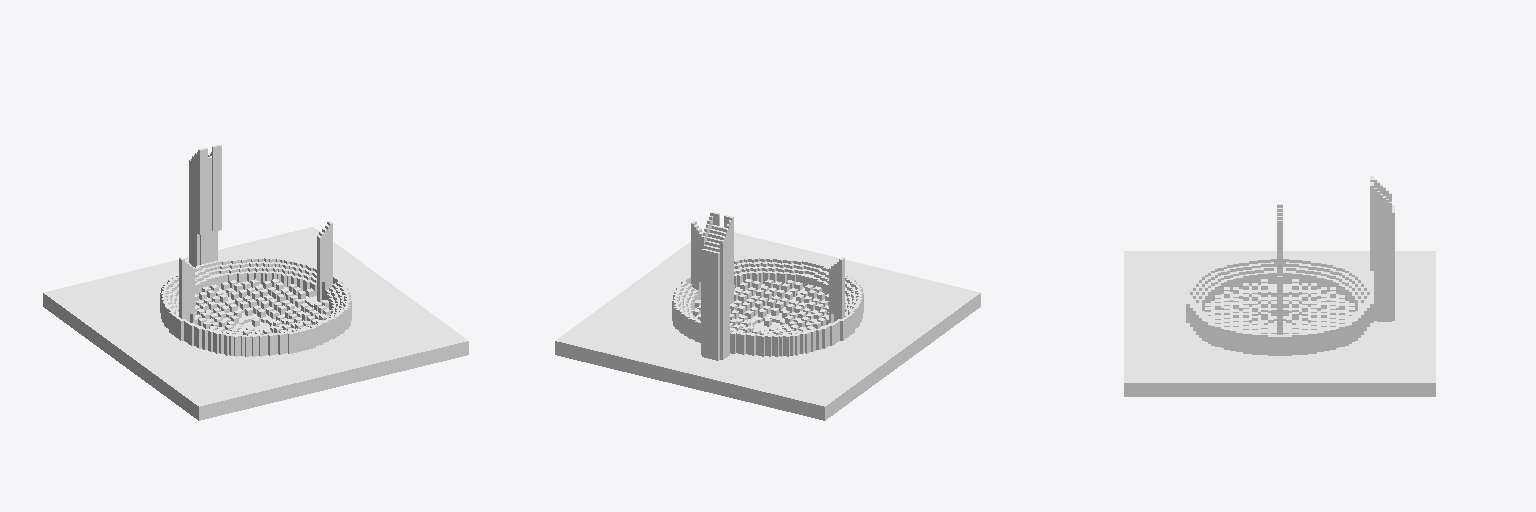
Rendered from world1_vox_proto.obj.
The picture shows the model from 3 angles: view 1: azimuth 30°, elevation 25°; view 2: azimuth 150°, elevation 25°; view 3: azimuth 270°, elevation 25°; orthographic projection.
Bounding box in the file's own units: 100 × 53 × 100.